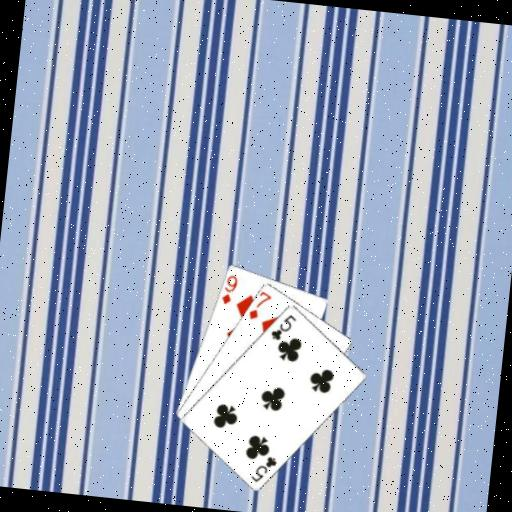5C: (247, 452, 279, 486), (268, 309, 299, 343)
7D: (245, 287, 274, 323)
9D: (218, 271, 239, 307)
